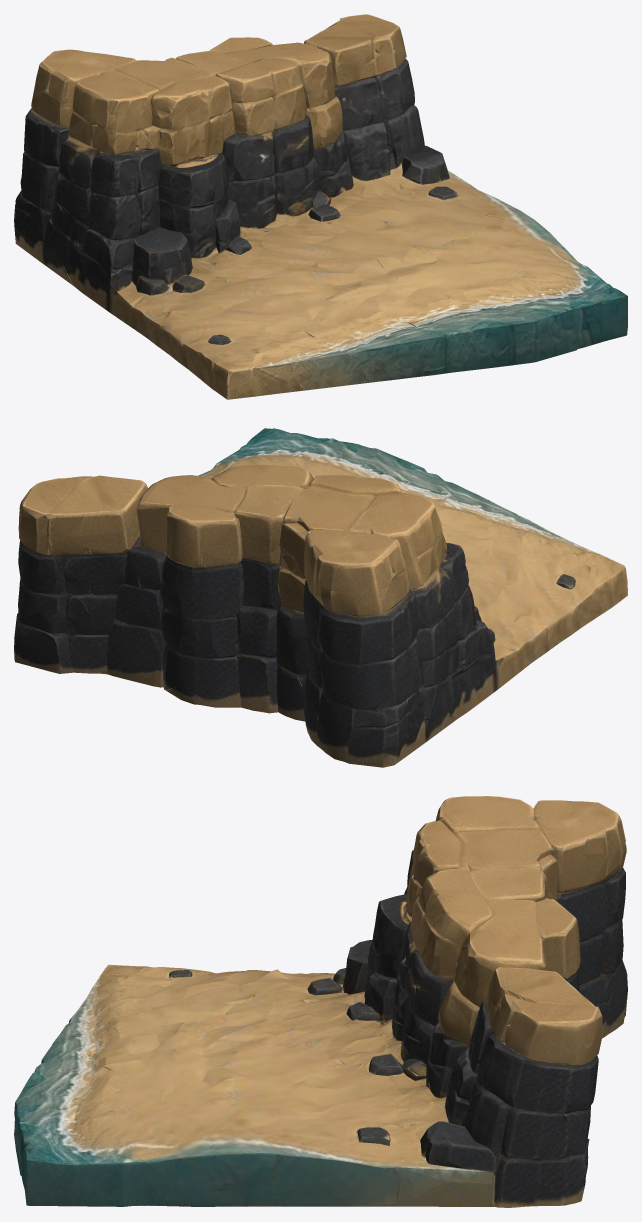
File: cliff-block.glb
3 views of the same model, one above another, from view 1: azimuth 30°, elevation 25°; view 2: azimuth 150°, elevation 25°; view 3: azimuth 270°, elevation 25° (orthographic). The views are drawn at different scales.
Bounding box in the file's own units: 1.56 × 0.7434 × 1.9.
Materials: 1 (1 with a texture image).
